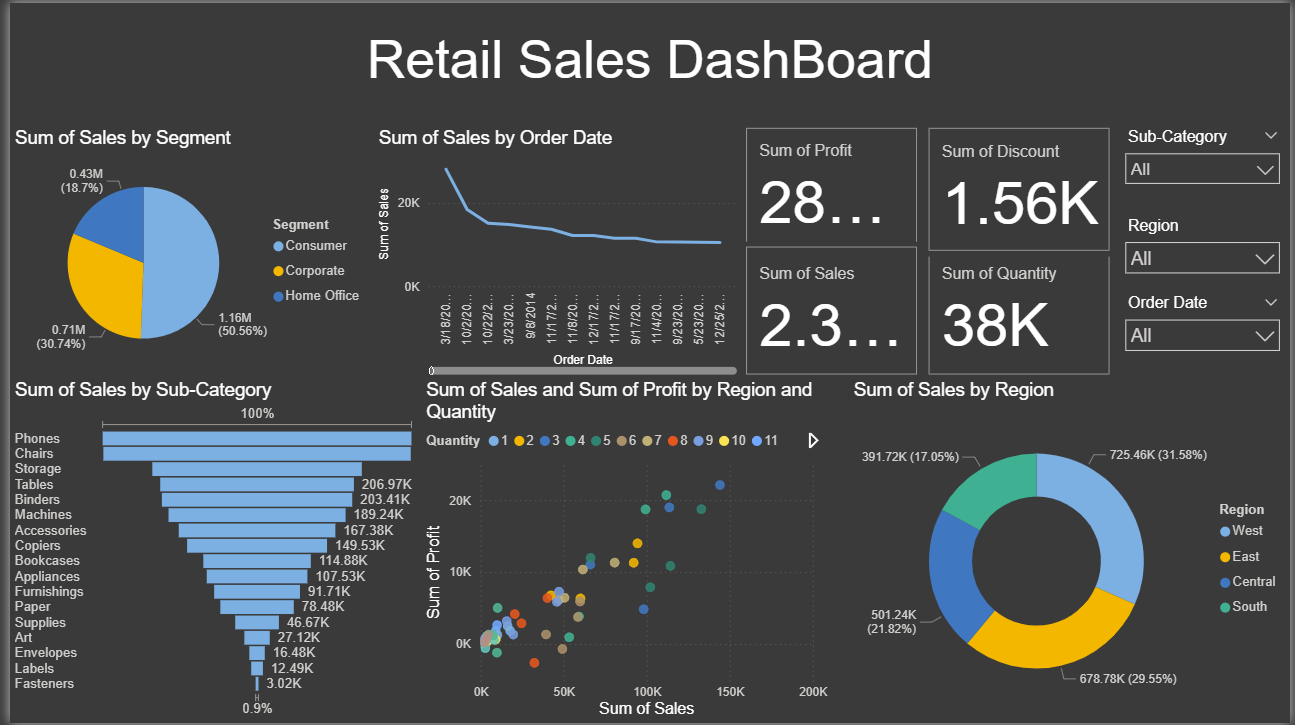

The dashboard page shown, as its layout file describes it:
{"tool":"powerbi","page":{"name":"Page 1","canvas":[1280,720],"ordinal":0},"visuals":[{"type":"donutChart","fields":{"Category":["Sample - Superstore.Region"],"Y":["Sum(Sample - Superstore.Sales)"]},"box":[838.3,376.7,441.7,343.3],"z":0},{"type":"funnel","fields":{"Category":["Sample - Superstore.Sub-Category"],"Y":["Sum(Sample - Superstore.Sales)"]},"box":[0,376.7,411.7,343.3],"z":1},{"type":"pieChart","fields":{"Category":["Sample - Superstore.Segment"],"Y":["Sum(Sample - Superstore.Sales)"]},"box":[0,123.3,363.3,251.7],"z":3},{"type":"lineChart","fields":{"Category":["Sample - Superstore.Order Date"],"Y":["Sum(Sample - Superstore.Sales)"]},"box":[363.3,123.3,368.3,253.3],"z":4},{"type":"cardVisual","fields":{"Data":["Sum(Sample - Superstore.Profit)"]},"box":[731.7,120,181.7,130],"z":5},{"type":"cardVisual","fields":{"Data":["Sum(Sample - Superstore.Quantity)"]},"box":[913.3,238.3,191.7,138.3],"z":6},{"type":"cardVisual","fields":{"Data":["Sum(Sample - Superstore.Sales)"]},"box":[731.7,238.3,181.7,138.3],"z":7},{"type":"cardVisual","fields":{"Data":["Sum(Sample - Superstore.Discount)"]},"box":[913.3,120,191.7,133.3],"z":8},{"type":"slicer","fields":{"Values":["Sample - Superstore.Order Date"]},"box":[1105,286.7,175,90],"z":9},{"type":"slicer","fields":{"Values":["Sample - Superstore.Region"]},"box":[1105,208.3,175,78.3],"z":10},{"type":"slicer","fields":{"Values":["Sample - Superstore.Sub-Category"]},"box":[1105,120,175,90],"z":11},{"type":"textbox","box":[0,21.7,1280,101.7],"z":12},{"type":"scatterChart","fields":{"Category":["Sample - Superstore.Region"],"Series":["Sample - Superstore.Quantity"],"X":["Sum(Sample - Superstore.Sales)"],"Y":["Sum(Sample - Superstore.Profit)"]},"box":[411.7,376.7,411.7,343.3],"z":13}]}

Visuals, with their boxes in screenshot pixels (x1, y1, x2, y2), scaled from the page's 1280x720 canvas onto the 1295x725 screenshot:
donutChart - Sample - Superstore.Region x Sum(Sample - Superstore.Sales): 848 379 1294 724
funnel - Sample - Superstore.Sub-Category x Sum(Sample - Superstore.Sales): 0 379 417 724
pieChart - Sample - Superstore.Segment x Sum(Sample - Superstore.Sales): 0 124 368 378
lineChart - Sample - Superstore.Order Date x Sum(Sample - Superstore.Sales): 368 124 740 379
cardVisual - Sum(Sample - Superstore.Profit): 740 121 924 252
cardVisual - Sum(Sample - Superstore.Quantity): 924 240 1118 379
cardVisual - Sum(Sample - Superstore.Sales): 740 240 924 379
cardVisual - Sum(Sample - Superstore.Discount): 924 121 1118 255
slicer - Sample - Superstore.Order Date: 1118 289 1294 379
slicer - Sample - Superstore.Region: 1118 210 1294 289
slicer - Sample - Superstore.Sub-Category: 1118 121 1294 211
textbox: 0 22 1294 124
scatterChart - Sample - Superstore.Region x Sample - Superstore.Quantity: 417 379 833 724
